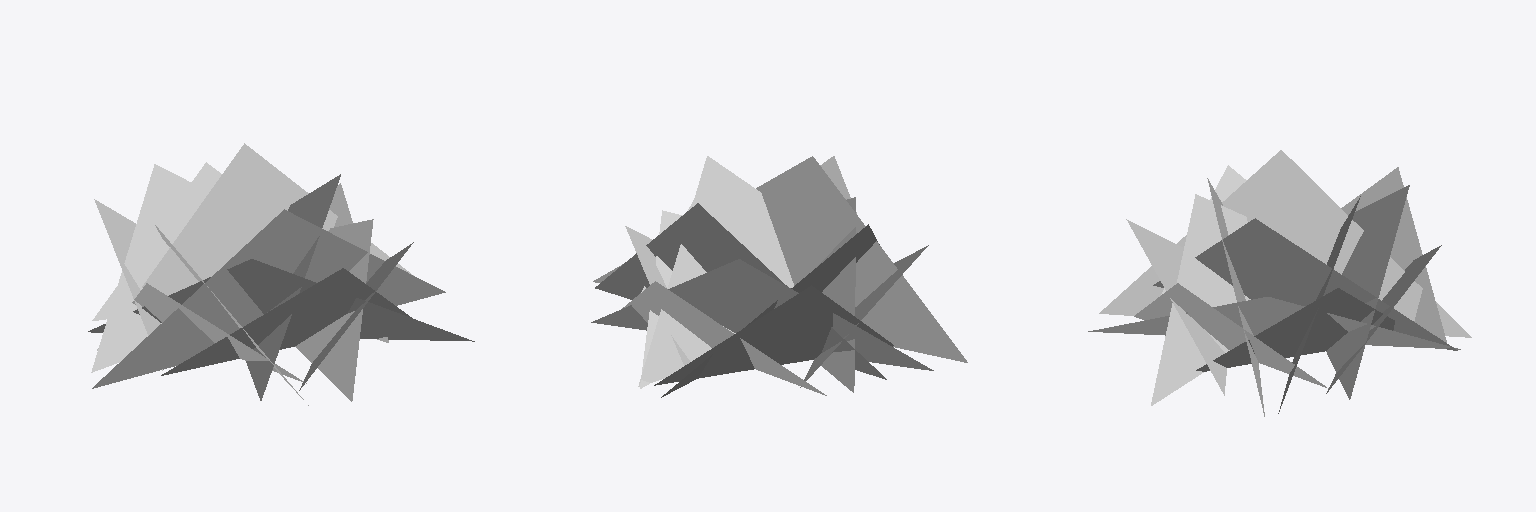
Rendered from grass.obj.
3 views of the same model, side by side, from view 1: azimuth 30°, elevation 25°; view 2: azimuth 150°, elevation 25°; view 3: azimuth 270°, elevation 25° (orthographic).
Bounding box in the file's own units: 1.26 × 0.499 × 1.15.